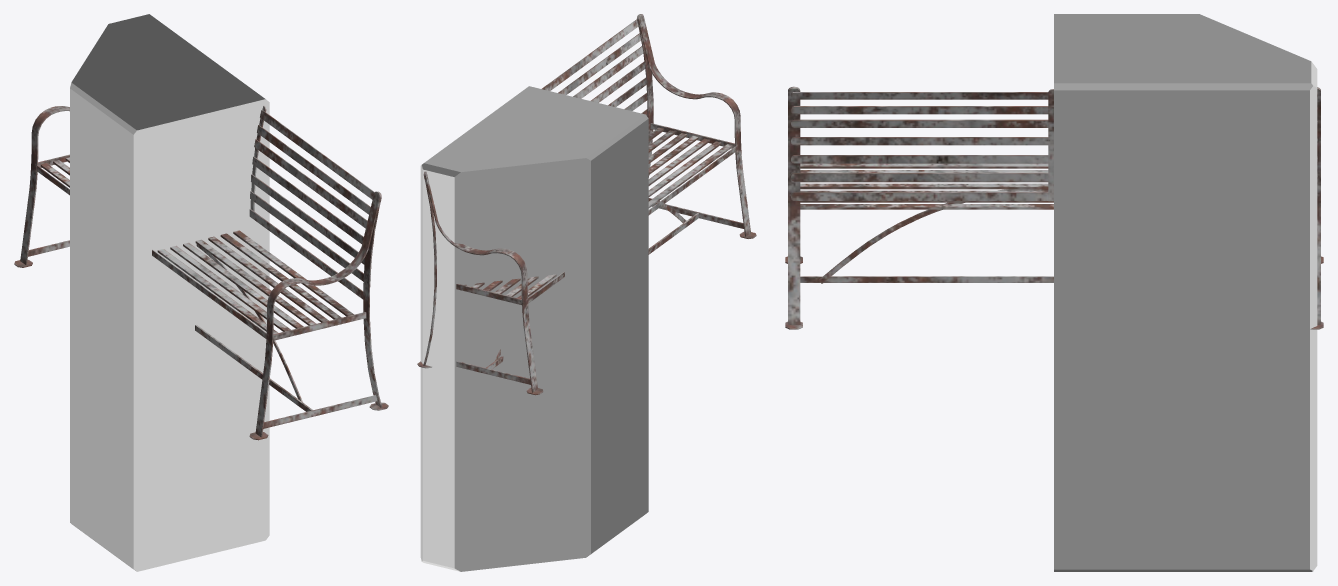
Rendered from SM_Bench_05.fbx.
3 views of the same model, side by side, from view 1: azimuth 30°, elevation 25°; view 2: azimuth 150°, elevation 25°; view 3: azimuth 270°, elevation 25° (orthographic). The views are drawn at different scales.
Visible parts, largest first — view 1: SM_Bench_05_ConvexHulls, SM_Bench_05_LOD0; view 2: SM_Bench_05_ConvexHulls, SM_Bench_05_LOD0; view 3: SM_Bench_05_ConvexHulls, SM_Bench_05_LOD0.
Part boxes in pixels (bbox=[...]): SM_Bench_05_ConvexHulls: bbox=[70, 14, 269, 571]; SM_Bench_05_LOD0: bbox=[14, 105, 388, 440]; SM_Bench_05_ConvexHulls: bbox=[420, 86, 648, 571]; SM_Bench_05_LOD0: bbox=[417, 14, 756, 395]; SM_Bench_05_ConvexHulls: bbox=[1054, 14, 1317, 571]; SM_Bench_05_LOD0: bbox=[785, 86, 1323, 329].
Size of the model in its own units: 61.44 by 190 by 190.
